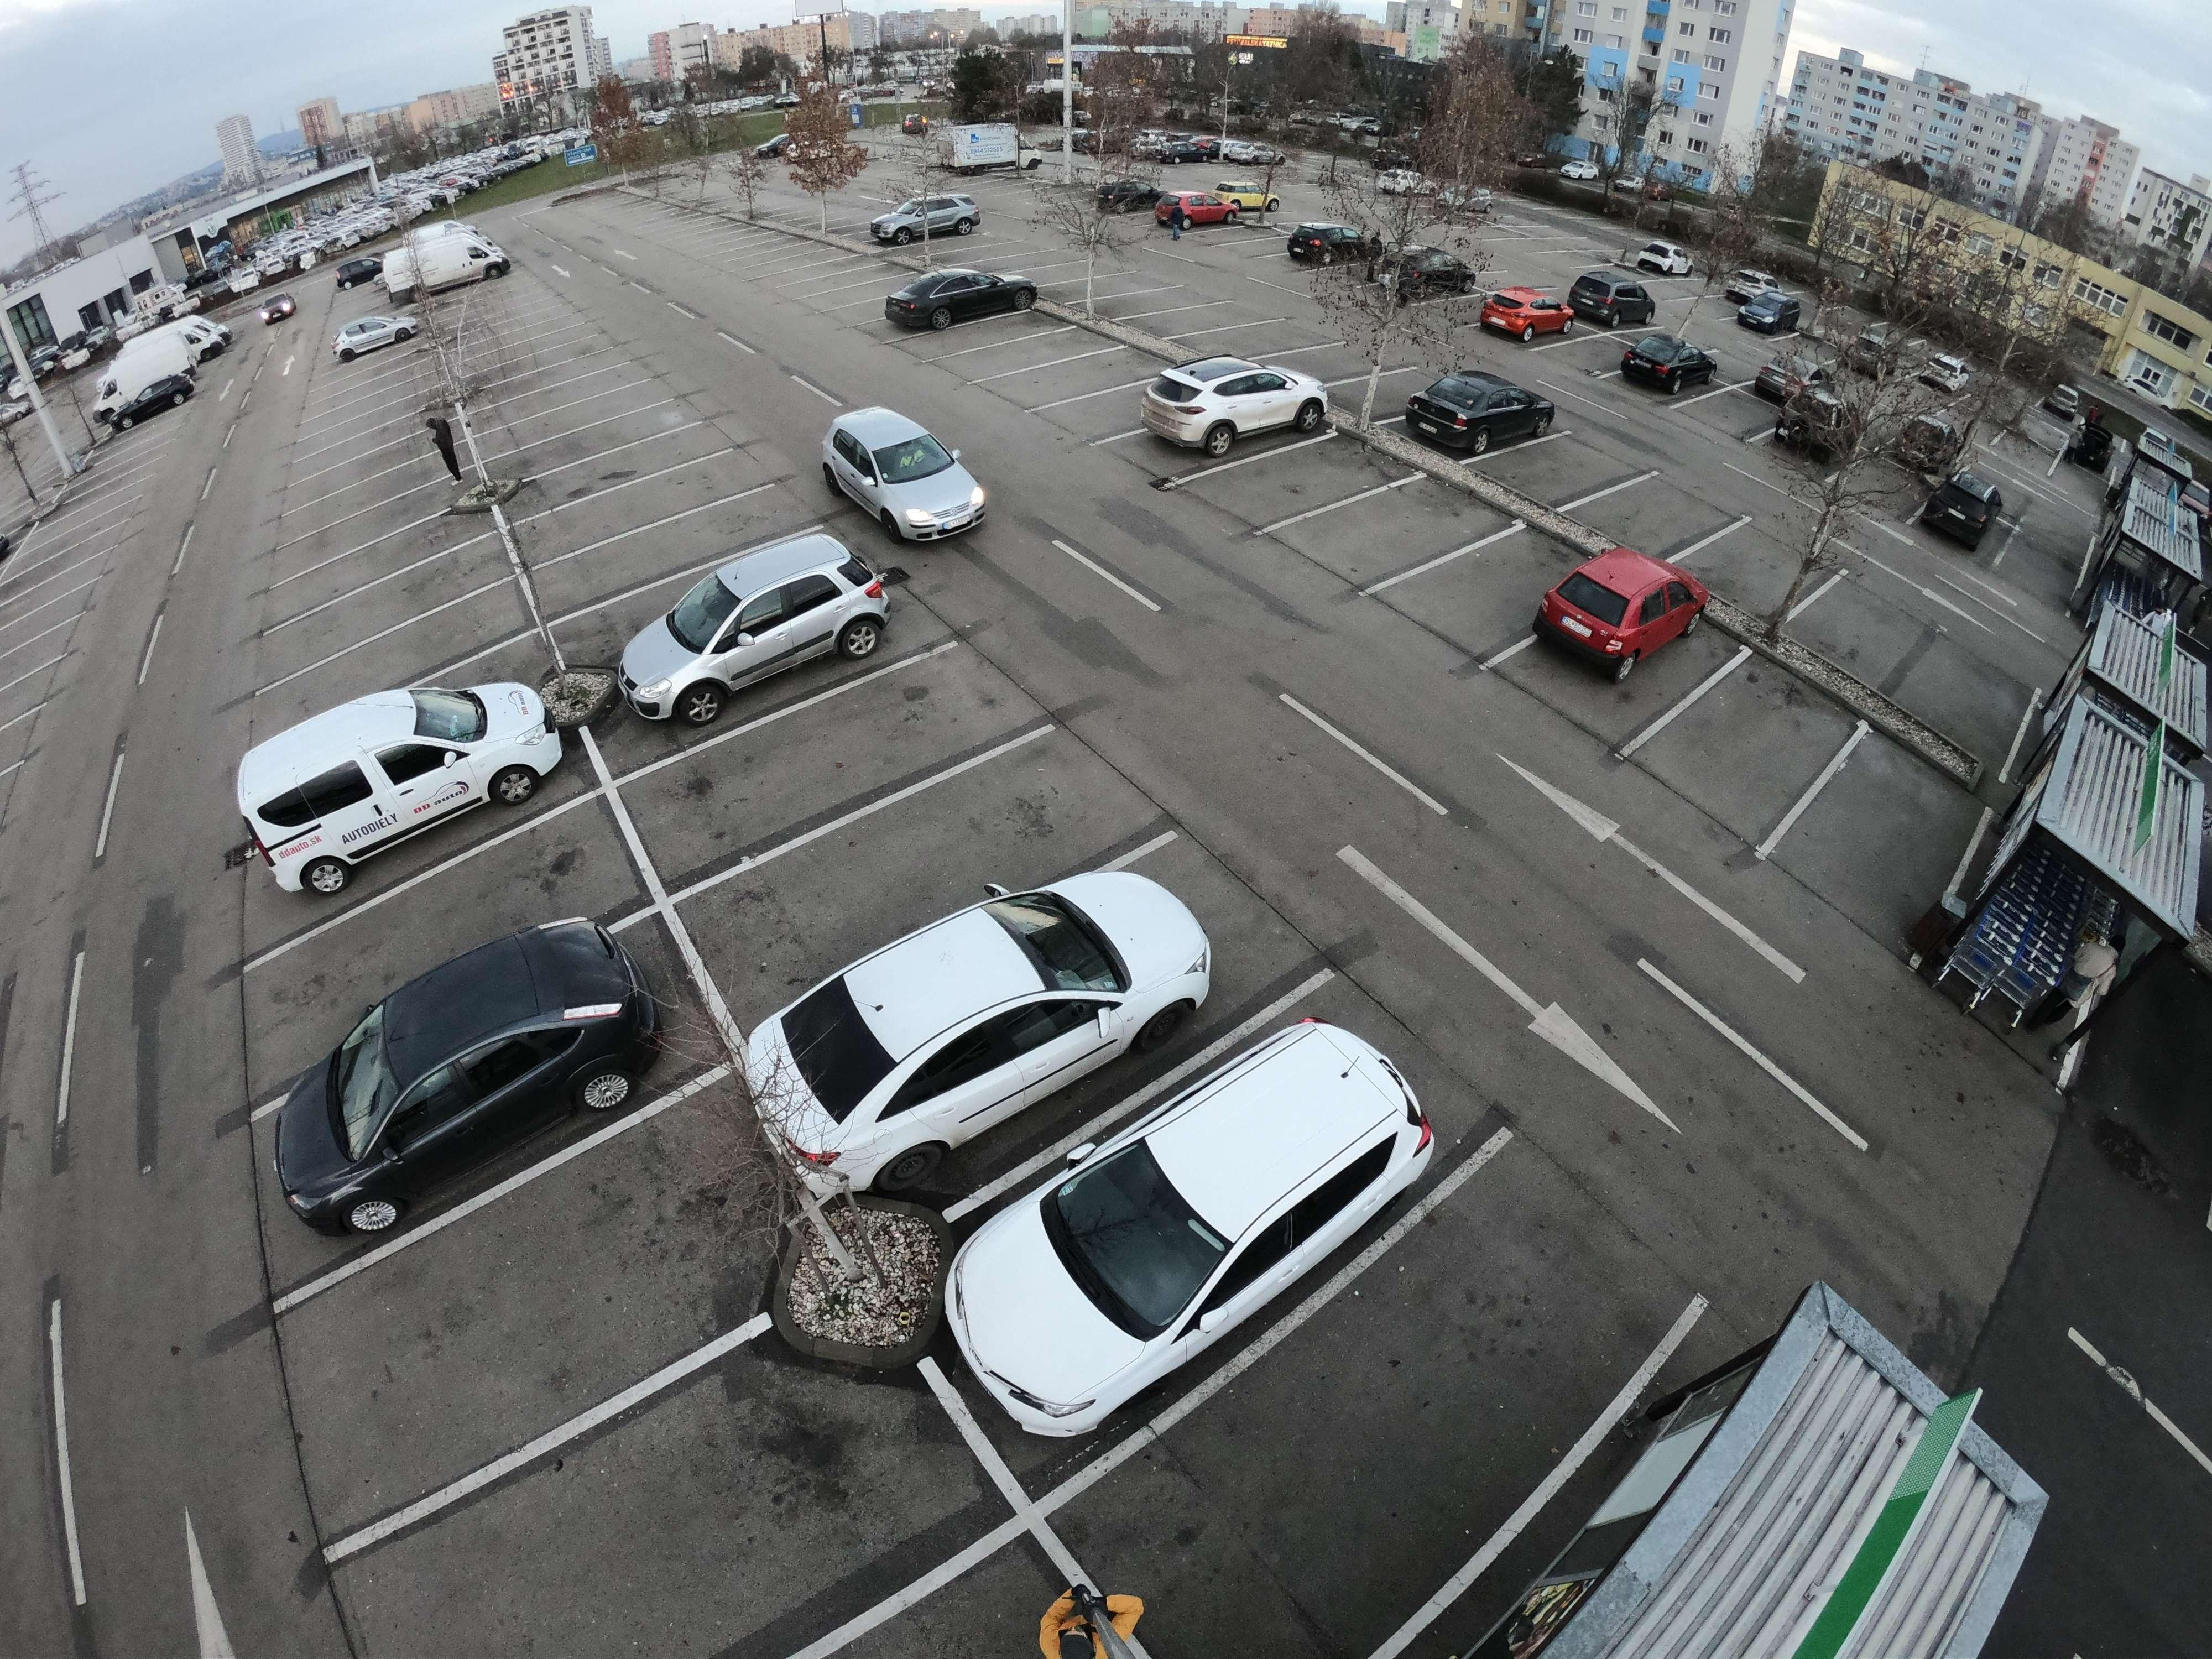empty: (939, 1004, 1470, 1438), (772, 857, 1226, 1178), (261, 915, 685, 1218), (244, 676, 585, 868), (608, 544, 894, 720), (1527, 547, 1716, 680), (812, 415, 995, 544), (1143, 359, 1348, 460), (1399, 373, 1559, 458), (871, 267, 1036, 338), (87, 359, 218, 432), (1904, 469, 2015, 554), (1611, 331, 1719, 399), (867, 193, 984, 253), (1376, 247, 1482, 301), (1768, 406, 1862, 467), (1477, 291, 1575, 343), (331, 308, 427, 361), (1564, 279, 1653, 333), (1284, 214, 1378, 265), (1087, 173, 1169, 213)
occupied: (1296, 1253, 1670, 1502), (526, 1452, 808, 1631), (482, 1215, 709, 1349), (836, 807, 1038, 911), (401, 859, 594, 962), (1822, 770, 1973, 873), (779, 713, 941, 793), (1892, 640, 2001, 755), (1787, 572, 1905, 674), (1691, 704, 1839, 779), (1700, 535, 1827, 608), (1444, 565, 1557, 620), (1346, 509, 1460, 556), (632, 521, 735, 572), (1601, 497, 1703, 545), (610, 479, 711, 526), (1186, 317, 1284, 364), (1258, 462, 1359, 505), (1996, 542, 2074, 598), (1043, 352, 1136, 392), (366, 580, 449, 624), (1507, 457, 1599, 495), (533, 462, 599, 509), (334, 551, 406, 594), (1710, 396, 1775, 430), (362, 509, 399, 551)
